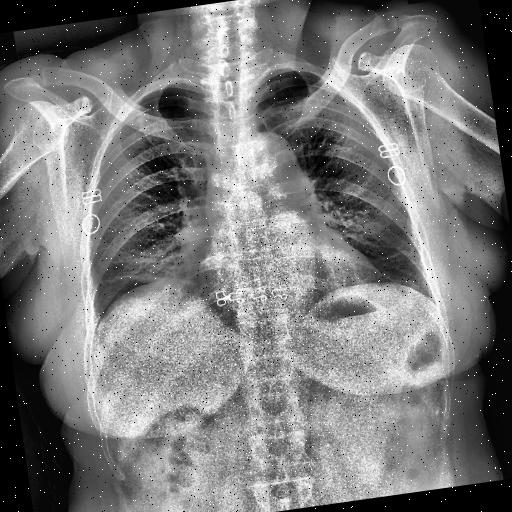0- Aortic enlargement: (230, 128, 306, 202), (244, 128, 306, 208), (240, 128, 302, 194)
13- Pulmonary fibrosis: (97, 266, 158, 290), (104, 266, 160, 288), (108, 268, 160, 288), (370, 246, 412, 266), (379, 250, 410, 260)
3- Cardiomegaly: (192, 226, 380, 304), (192, 232, 383, 303)
